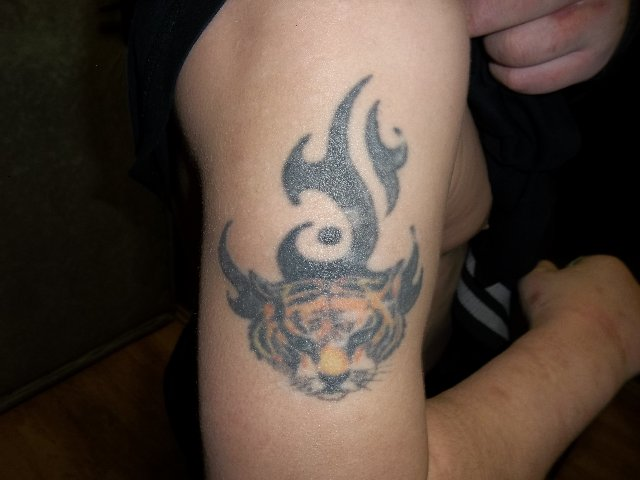tatu5_tigr: (194, 239, 427, 400)
